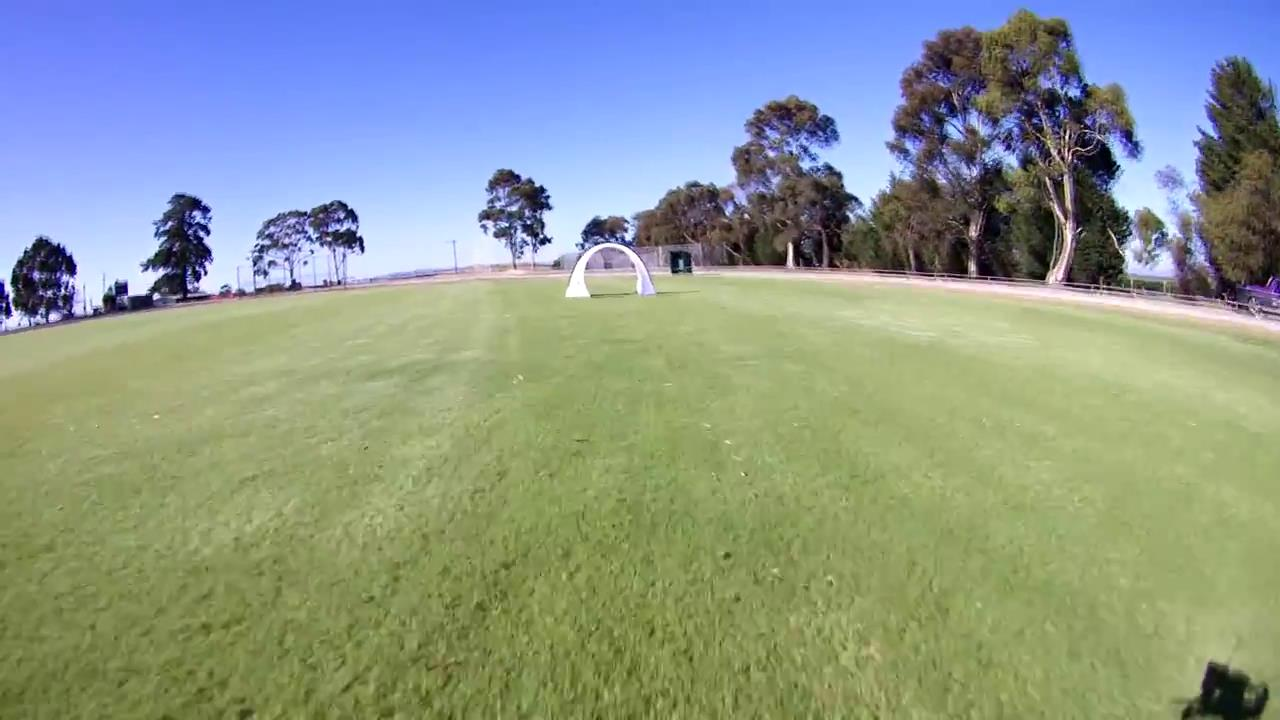gate: (564, 242, 660, 300)
